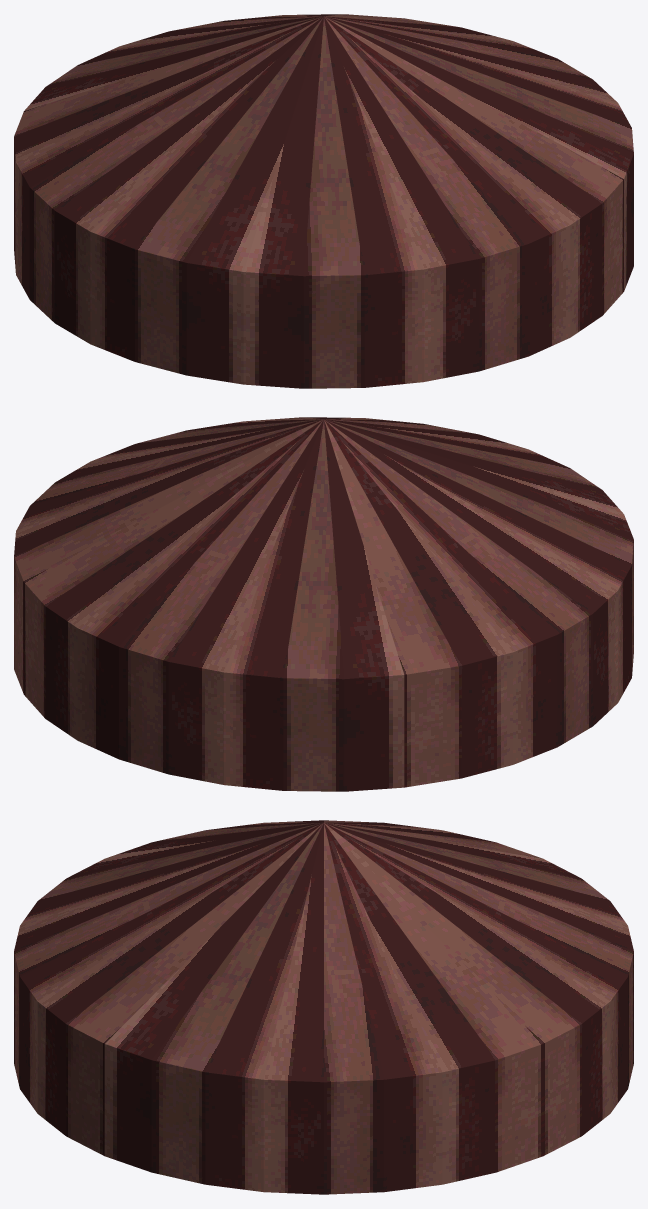
Rendered from OuterTent.glb.
The picture shows the model from 3 angles, top to bottom: view 1: azimuth 30°, elevation 25°; view 2: azimuth 150°, elevation 25°; view 3: azimuth 270°, elevation 25°; orthographic projection.
Parts seen in each view (by area): view 1: OuterTent; view 2: OuterTent; view 3: OuterTent.
Part boxes in pixels (x1,y1,x2,y2): OuterTent: [14, 14, 633, 388]; OuterTent: [14, 417, 633, 791]; OuterTent: [14, 820, 633, 1194].
Bounding box in the file's own units: 50 × 21.44 × 50.
Materials: 1 (1 with a texture image).
